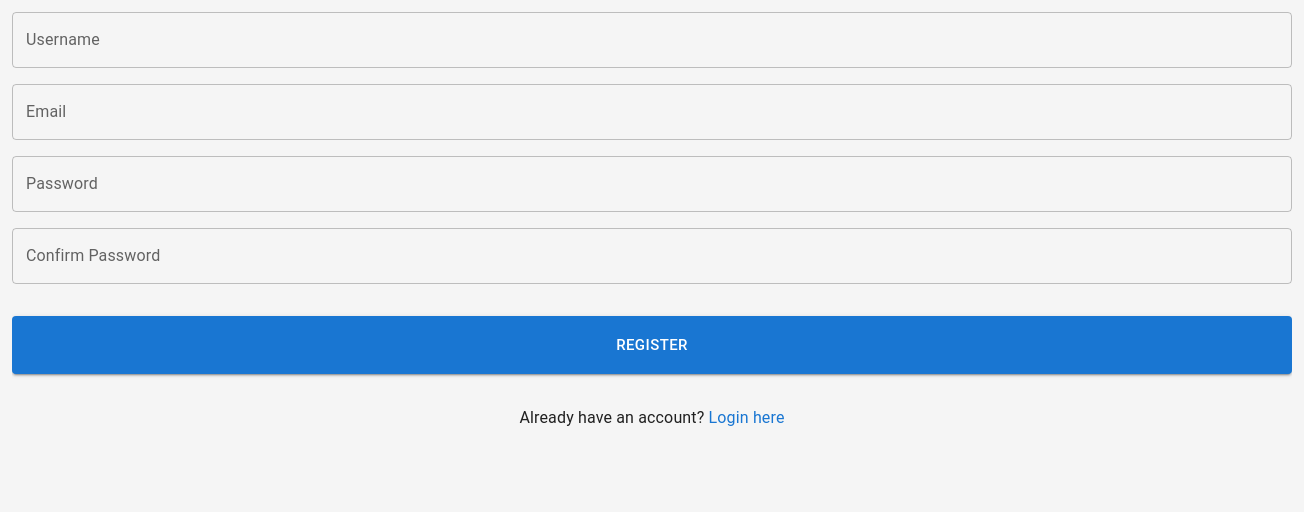
Test case: RegisterForm › Wrong input validations › Empty input, validation check
The image size is (1304, 512).
Click the button "Register": click(652, 345) [12,316,1292,374]
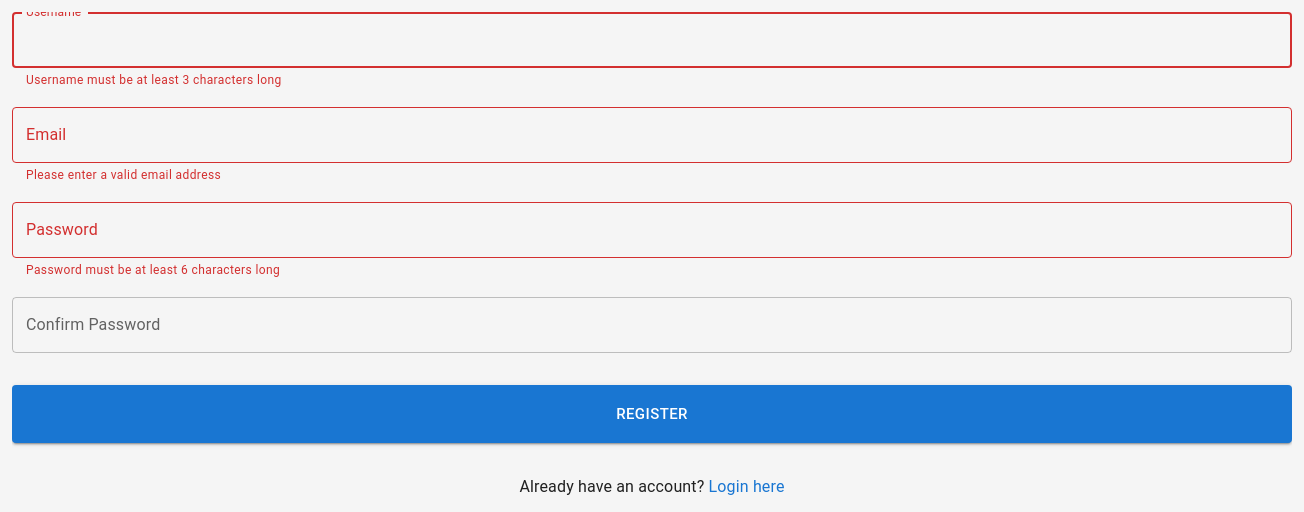
expect the text "Username must be at least 3 characters long" is shown: met, box [26,73,282,87]
expect the text "Please enter a valid email address" is shown: met, box [26,168,221,182]
expect the text "Password must be at least 6 characters long" is shown: met, box [26,263,280,277]
